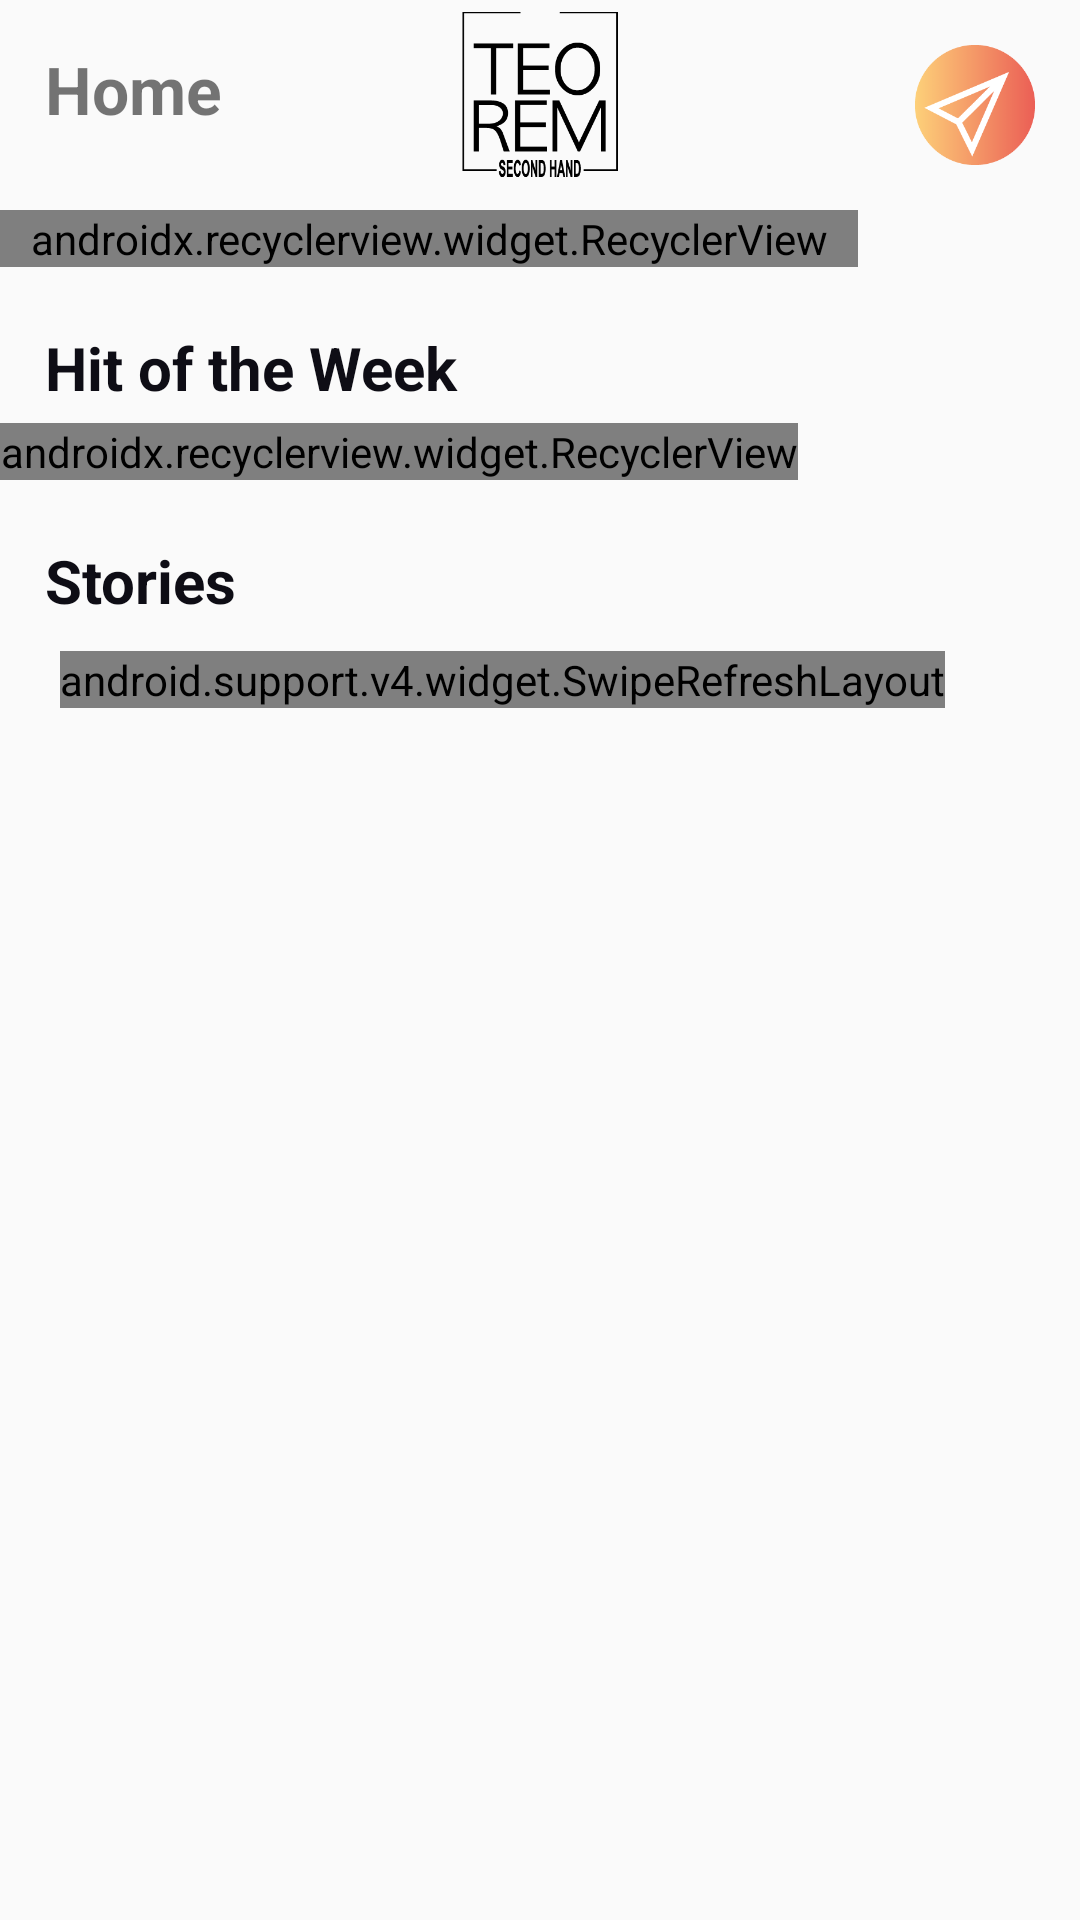

Icon click points for this 1080px×1920px phone screenshot, format point (x, y):
message: point (975, 105)
